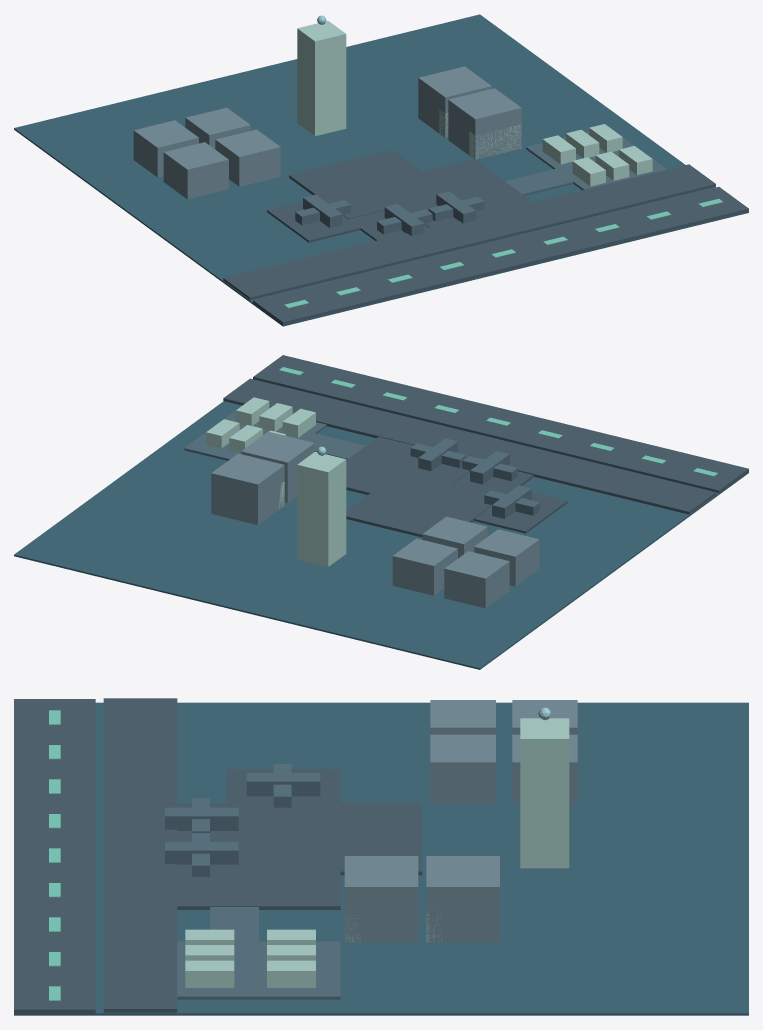
The model's file is stage_16.glb.
The picture shows the model from 3 angles, top to bottom: view 1: azimuth 30°, elevation 25°; view 2: azimuth 150°, elevation 25°; view 3: azimuth 270°, elevation 25°; orthographic projection. The views are drawn at different scales.
Visible parts, largest first — view 1: geometry_0; view 2: geometry_0; view 3: geometry_0.
Boxes of the visible parts, x1=… form: geometry_0: x1=14, y1=14, x2=748, y2=326; geometry_0: x1=14, y1=355, x2=748, y2=669; geometry_0: x1=14, y1=698, x2=748, y2=1015.
Bounding box in the file's own units: 9 × 2.06 × 9.
